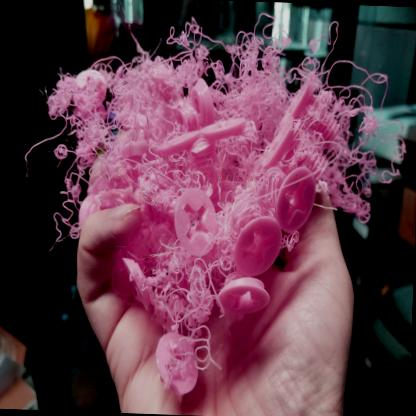fail: (16, 8, 412, 383)
